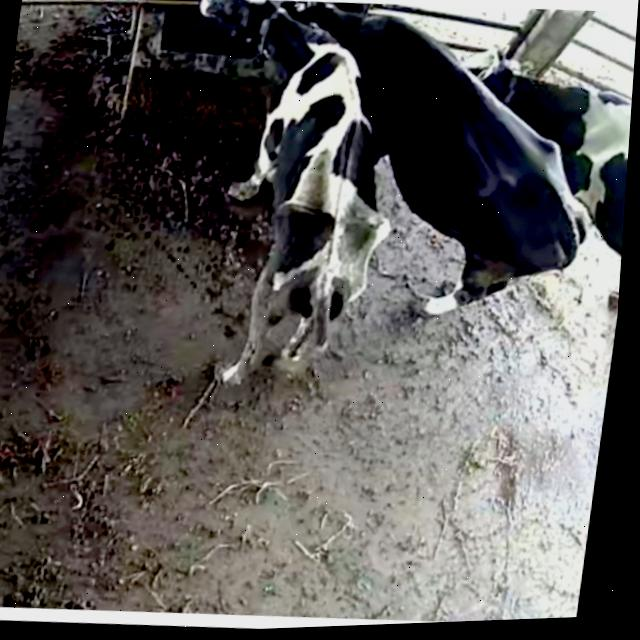drink: (279, 0, 445, 100)
